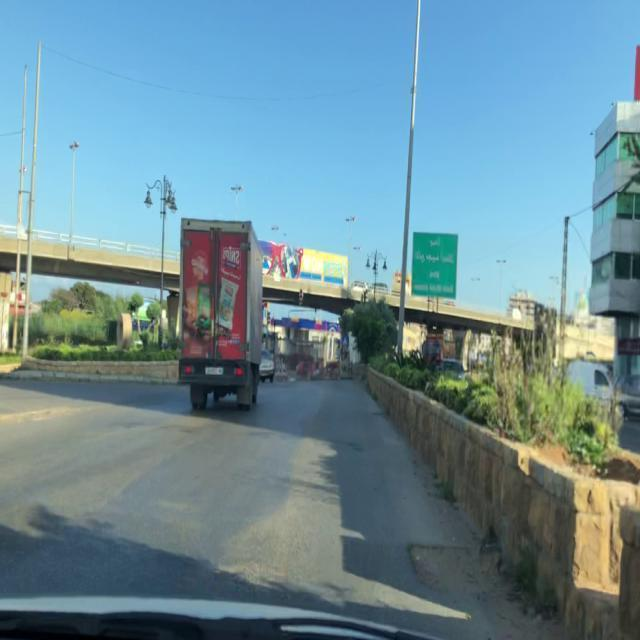pothole: (402, 536, 484, 601), (371, 411, 387, 418)
